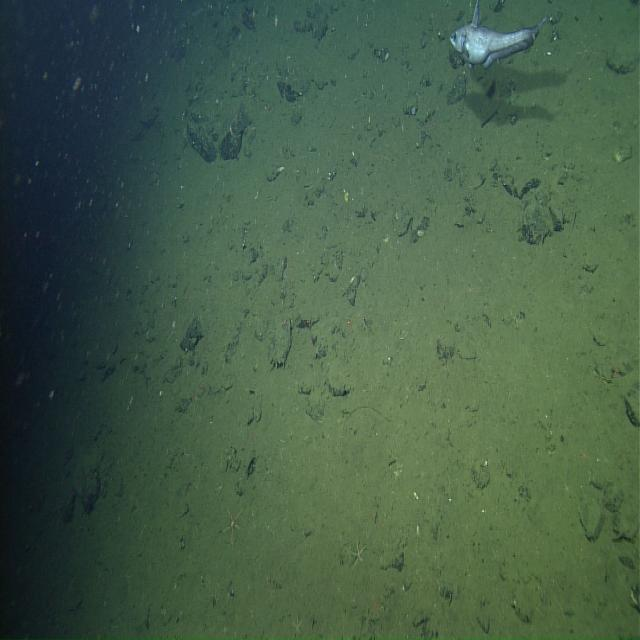Brittle Star: (221, 501, 244, 546), (346, 534, 368, 570), (290, 613, 306, 638)
